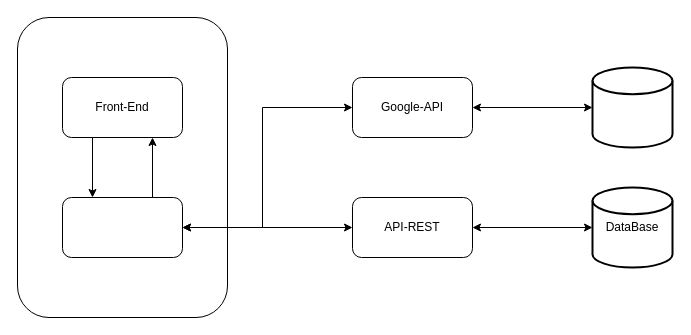
Image size: 691x335. Some labels were removed from this diagram. Here are the shapes that lost their labels. From the top down, the centre of each, then its label:
At point (632, 107): "Drive".
At point (122, 227): "Back-End-Local".
